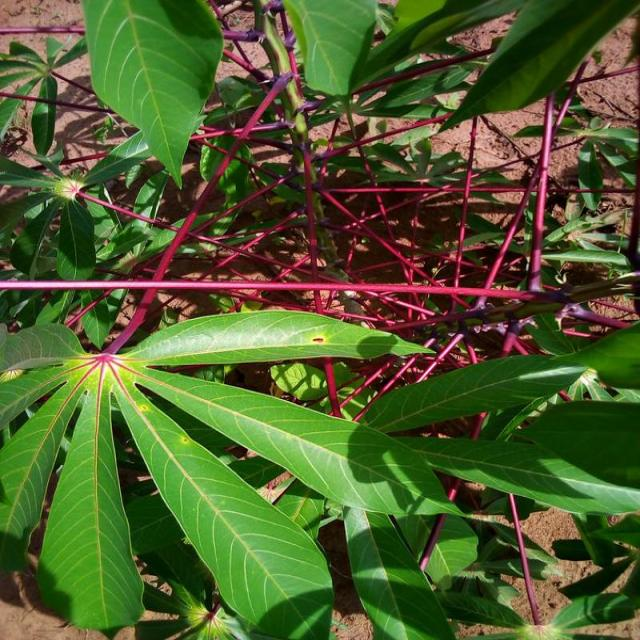cassava leaf: (110, 367, 334, 638), (34, 371, 146, 632), (79, 0, 224, 190), (282, 0, 378, 99)
